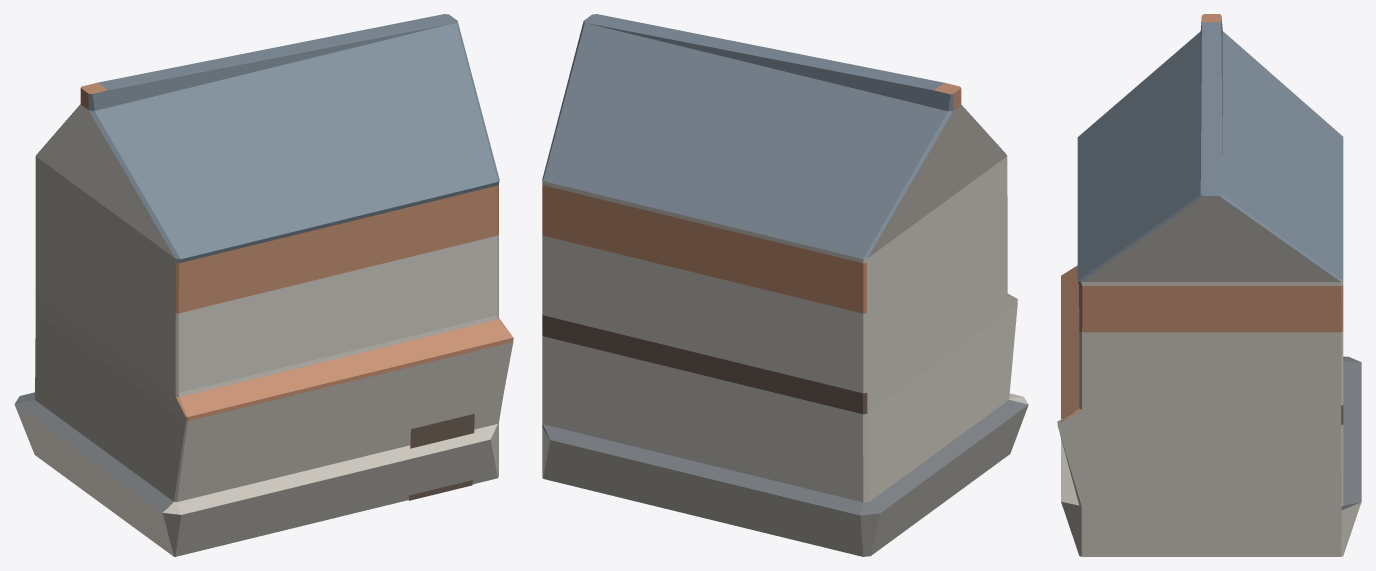
Rendered from loin.glb.
The picture shows the model from 3 angles, left to right: view 1: azimuth 30°, elevation 25°; view 2: azimuth 150°, elevation 25°; view 3: azimuth 270°, elevation 25°; orthographic projection. The views are drawn at different scales.
Parts seen in each view (by area): view 1: loin; view 2: loin; view 3: loin.
Boxes of the visible parts, x1,y1,x2,y2 form: loin: [14, 14, 513, 556]; loin: [542, 14, 1028, 556]; loin: [1057, 14, 1361, 556].
Bounding box in the file's own units: 0.847 × 0.9187 × 0.6535.
